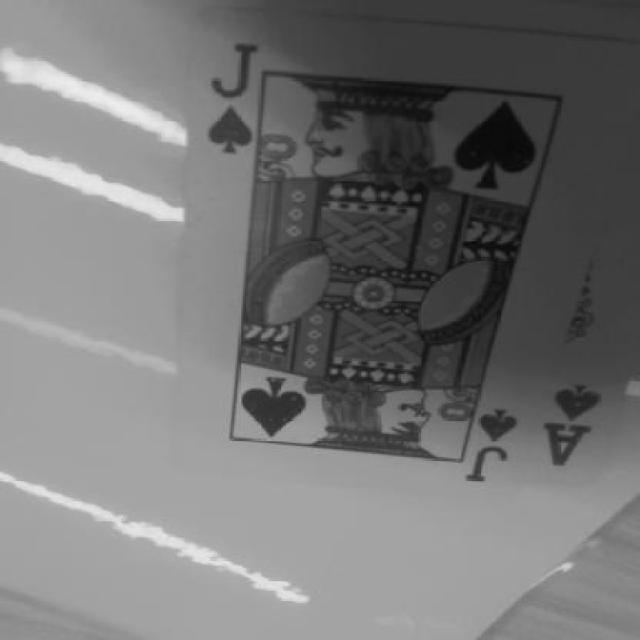AS: (538, 357, 616, 486)
JS: (192, 47, 280, 175), (455, 394, 516, 483)
